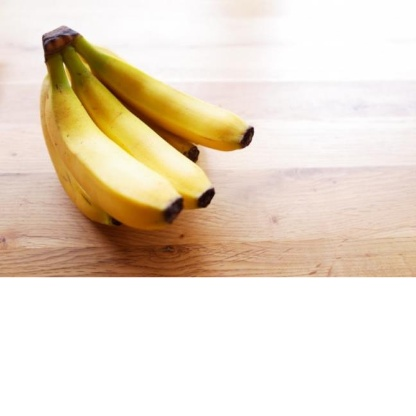chuoi: (27, 15, 263, 239)
